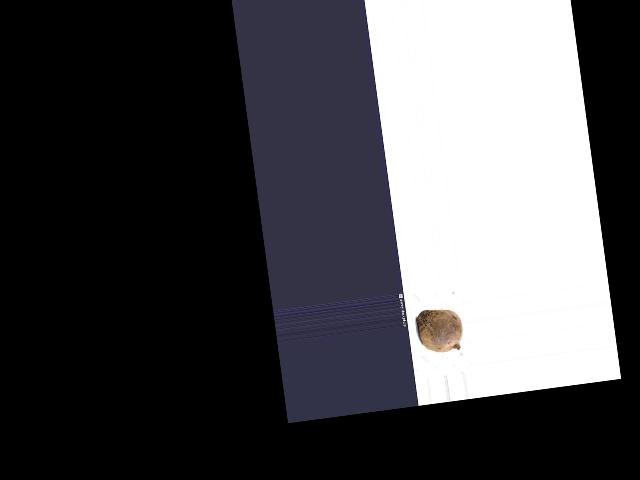beet: (415, 306, 465, 355)
